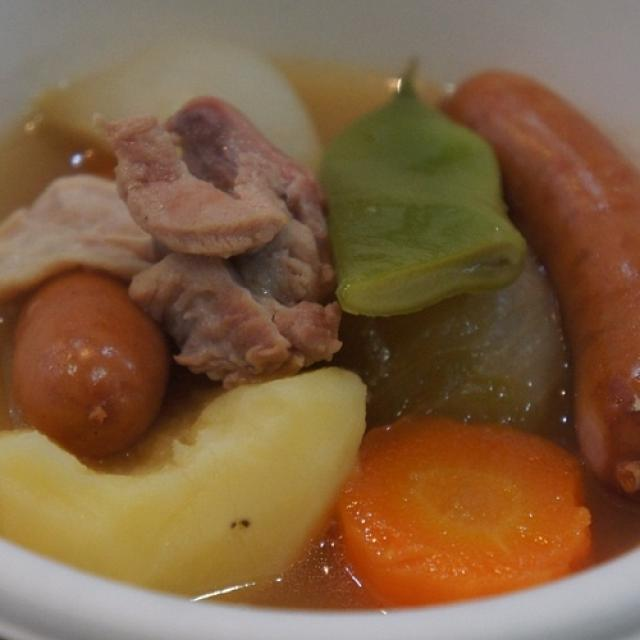汤锅炖物: (5, 12, 635, 602)
